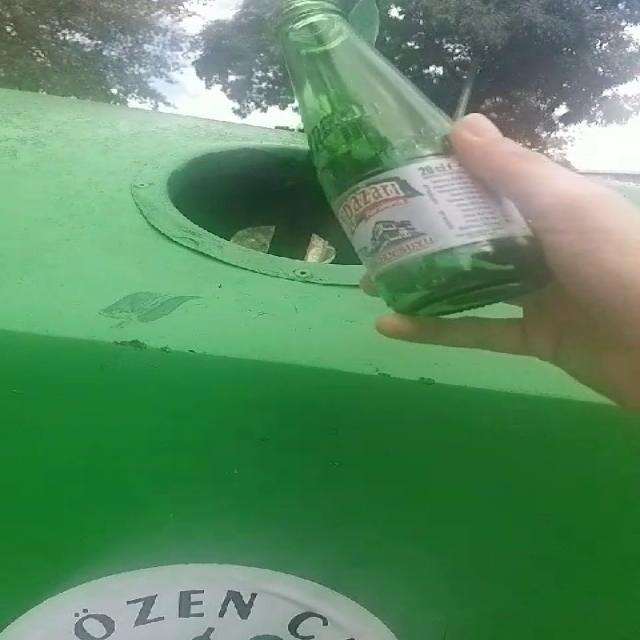glass: (276, 0, 547, 315)
